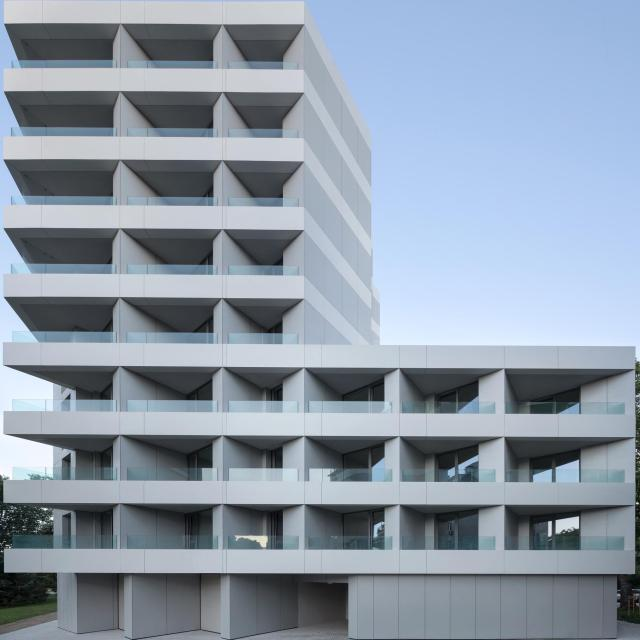Railing: (505, 401, 625, 414), (507, 470, 626, 483), (128, 466, 219, 482), (506, 538, 626, 550), (10, 398, 119, 411), (11, 534, 120, 547), (12, 466, 120, 479), (127, 398, 218, 413), (128, 534, 218, 549), (404, 469, 496, 482), (403, 401, 495, 413), (404, 537, 496, 549), (310, 469, 394, 482), (12, 332, 118, 342), (308, 401, 392, 413), (309, 537, 393, 549), (127, 332, 218, 343), (230, 468, 300, 481), (12, 60, 119, 68), (228, 400, 298, 412), (229, 536, 299, 548), (9, 129, 115, 136), (11, 198, 117, 205), (11, 266, 117, 273), (128, 60, 218, 68), (124, 128, 214, 136), (126, 197, 216, 205), (126, 266, 216, 274), (228, 333, 298, 343), (226, 61, 299, 69), (228, 129, 300, 137), (230, 198, 299, 206), (230, 266, 299, 274)
windows: (531, 512, 581, 536), (435, 510, 479, 536), (344, 510, 385, 537), (344, 444, 386, 468), (531, 449, 580, 469), (345, 377, 385, 401), (437, 378, 479, 400), (439, 445, 479, 468), (532, 388, 581, 402), (188, 506, 213, 533), (187, 444, 213, 467), (182, 379, 212, 398), (191, 316, 215, 332), (100, 508, 114, 534), (100, 444, 114, 467), (274, 509, 285, 537), (195, 251, 215, 266), (274, 446, 284, 469), (272, 384, 283, 401), (101, 382, 113, 397), (101, 318, 114, 331)
